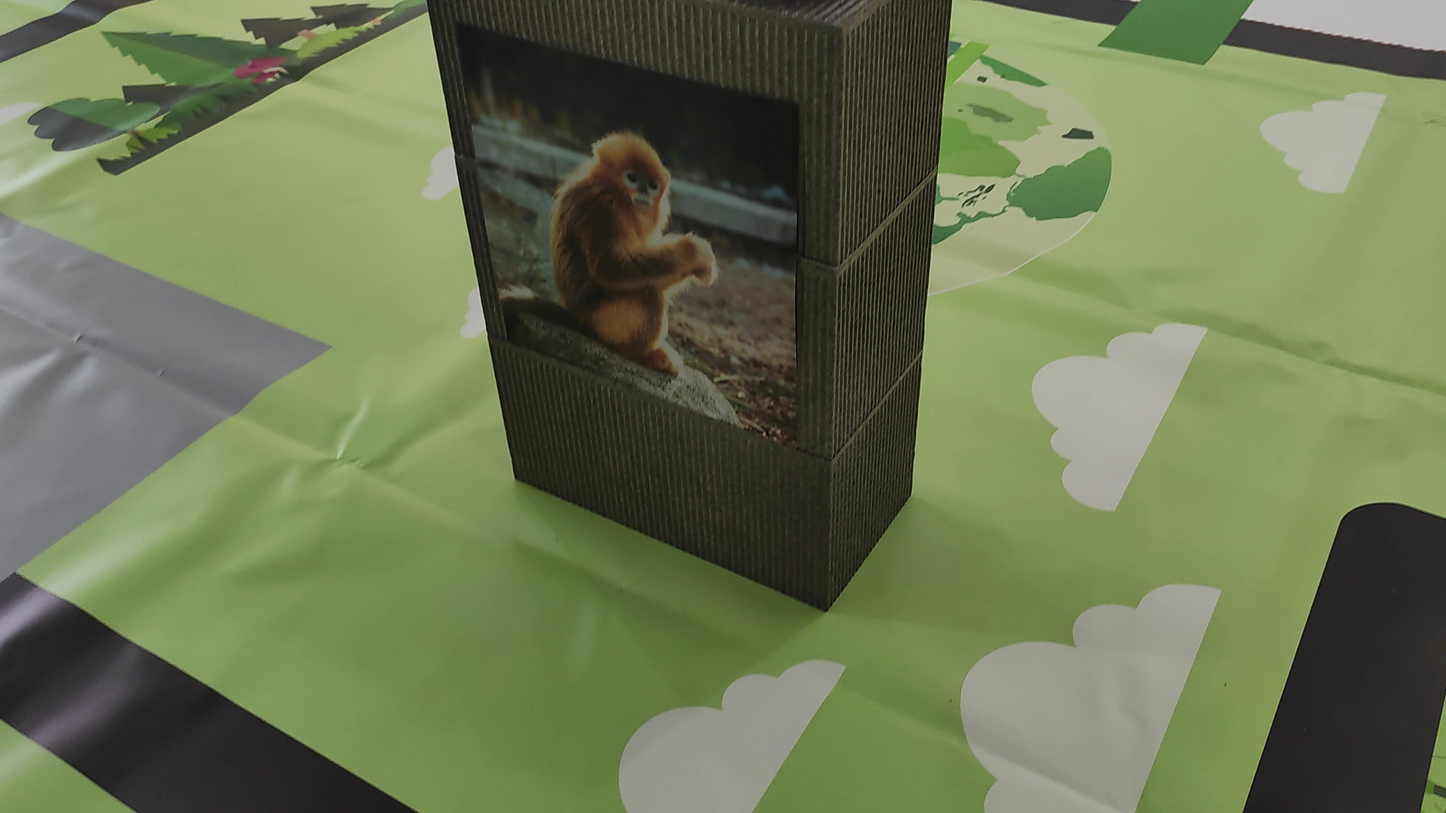monkey: (523, 117, 729, 374)
